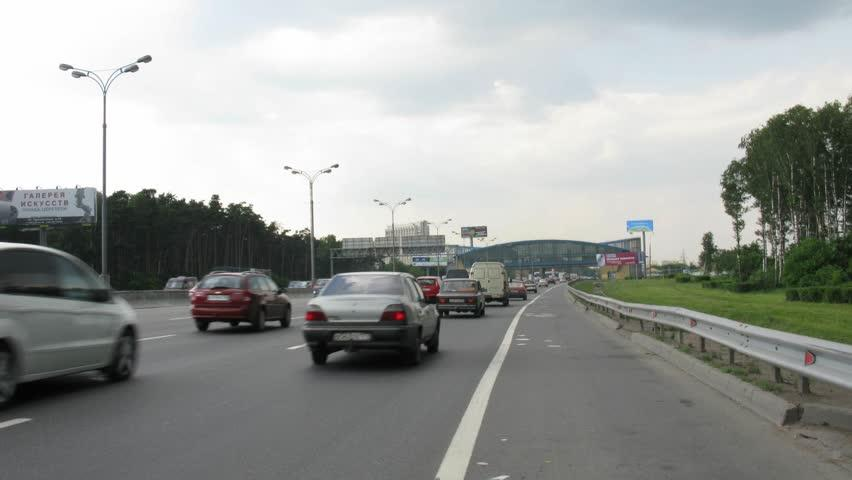car: (1, 240, 138, 409), (300, 269, 442, 367), (189, 269, 292, 332), (434, 278, 489, 319), (465, 261, 511, 306), (443, 269, 472, 304), (163, 276, 199, 303), (411, 276, 444, 305), (502, 279, 528, 301), (520, 280, 538, 293), (538, 278, 549, 288)
